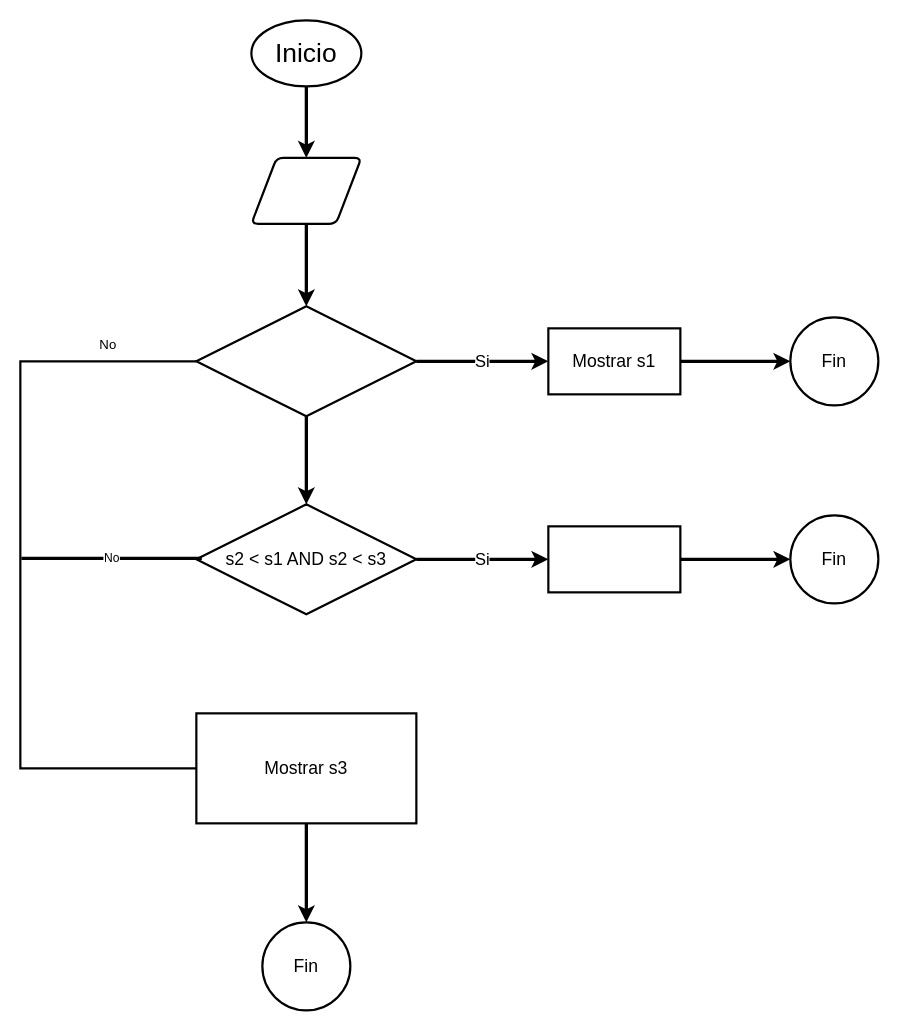
This 898x1030 diagram has some shape labels left out. Here are the shapes that lost their labels. From the top down, the centre of each, then its label:
the point at 306,190: s1, s2, s3
the point at 306,361: s1 < s2 AND s1 < s3
the point at 614,559: Mostrar s2
